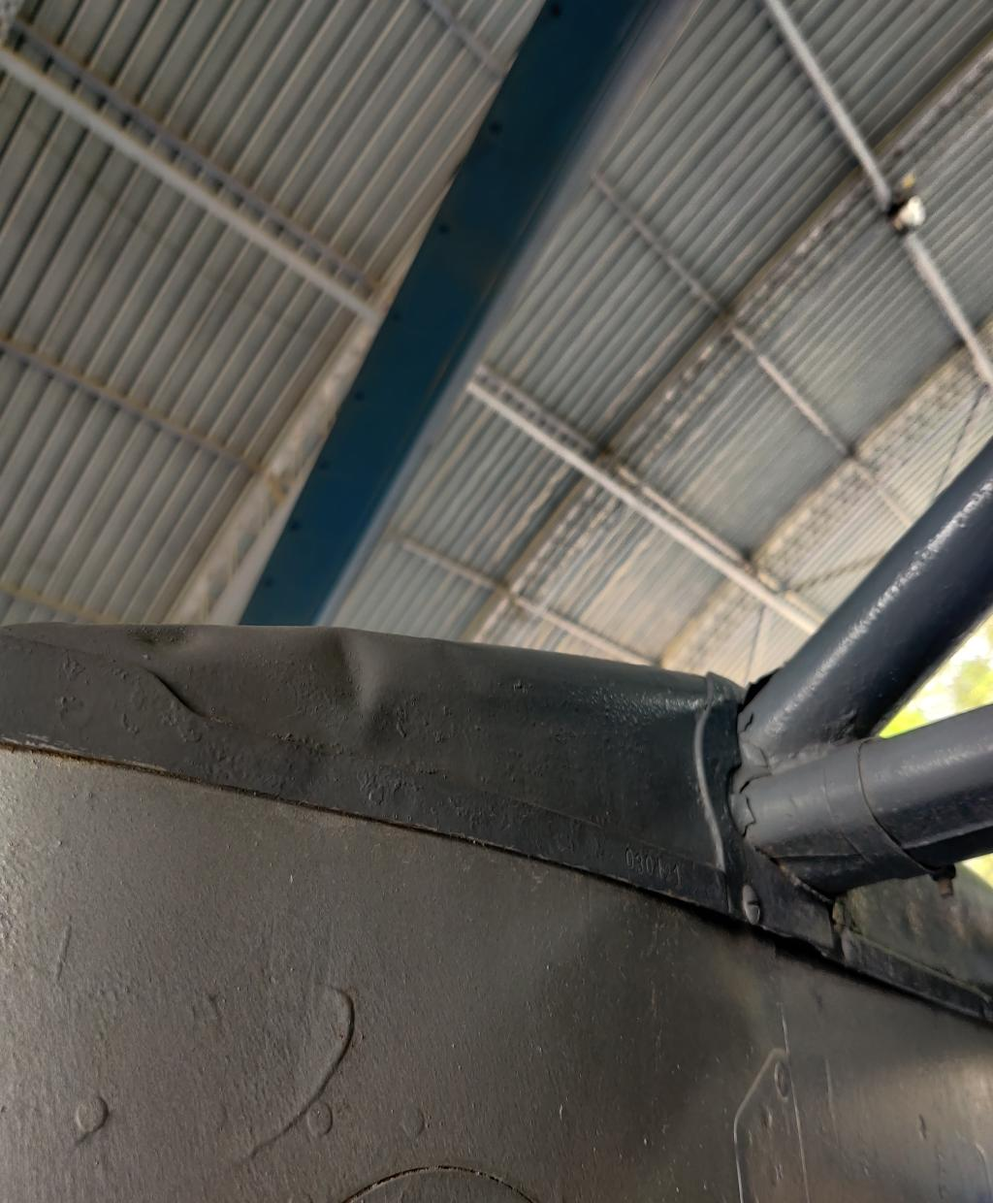dent: (298, 613, 397, 742), (126, 606, 205, 674)
